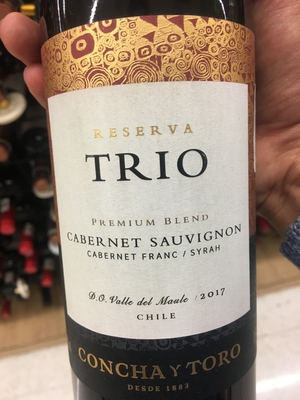trio cabernet sauvignon: (34, 4, 277, 400)
